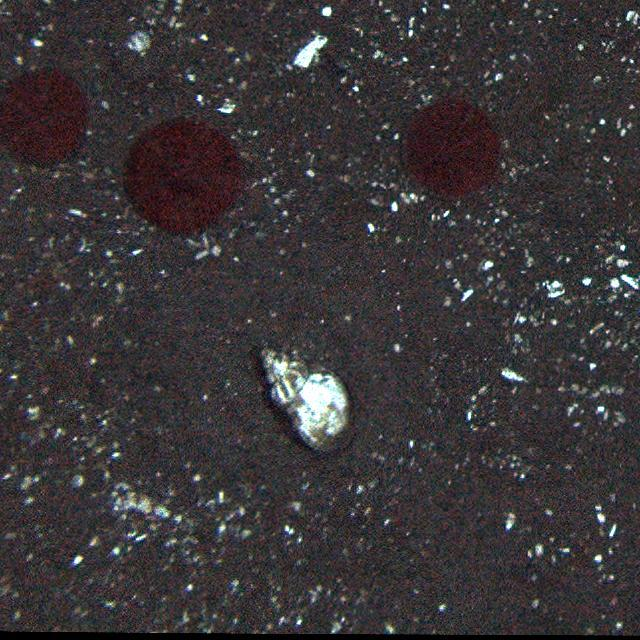whelk: (250, 339, 354, 455)
